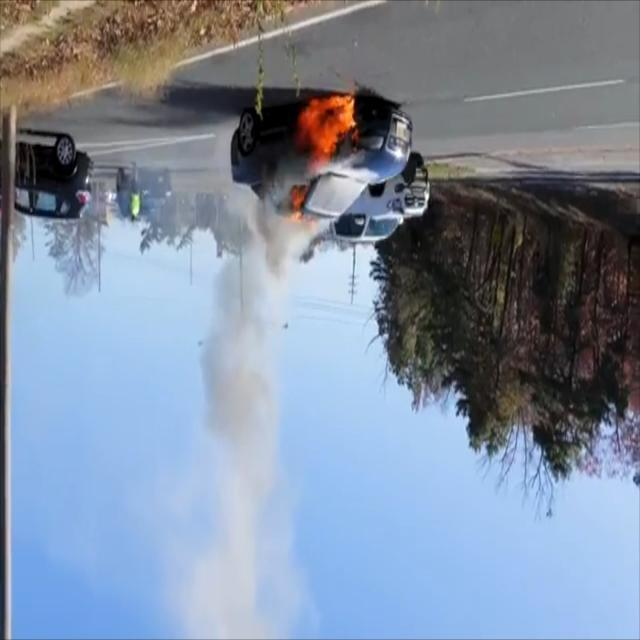fire: (287, 82, 355, 232)
